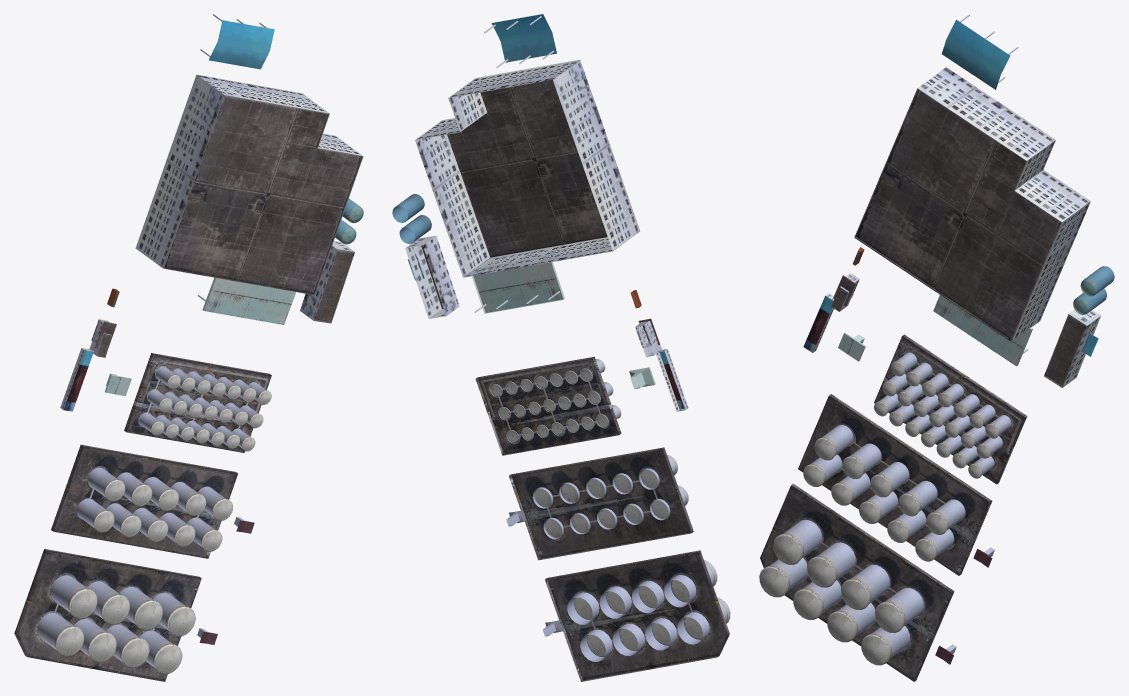
The picture shows the model from 3 angles, left to right: view 1: azimuth 30°, elevation 25°; view 2: azimuth 150°, elevation 25°; view 3: azimuth 330°, elevation 25°; orthographic projection. The views are drawn at different scales.
Visible parts, largest first — view 1: p6c_01; view 2: p6c_01; view 3: p6c_01.
Part boxes in pixels (x1,y1,x2,y2): p6c_01: [14, 14, 363, 681]; p6c_01: [392, 14, 730, 681]; p6c_01: [759, 14, 1114, 681].
Bounding box in the file's own units: 18518 × 34562 × 3331.
